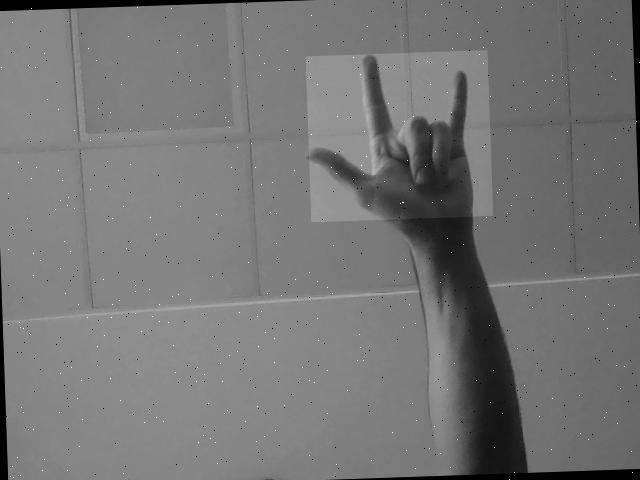I_Love_You: (306, 50, 494, 222)
